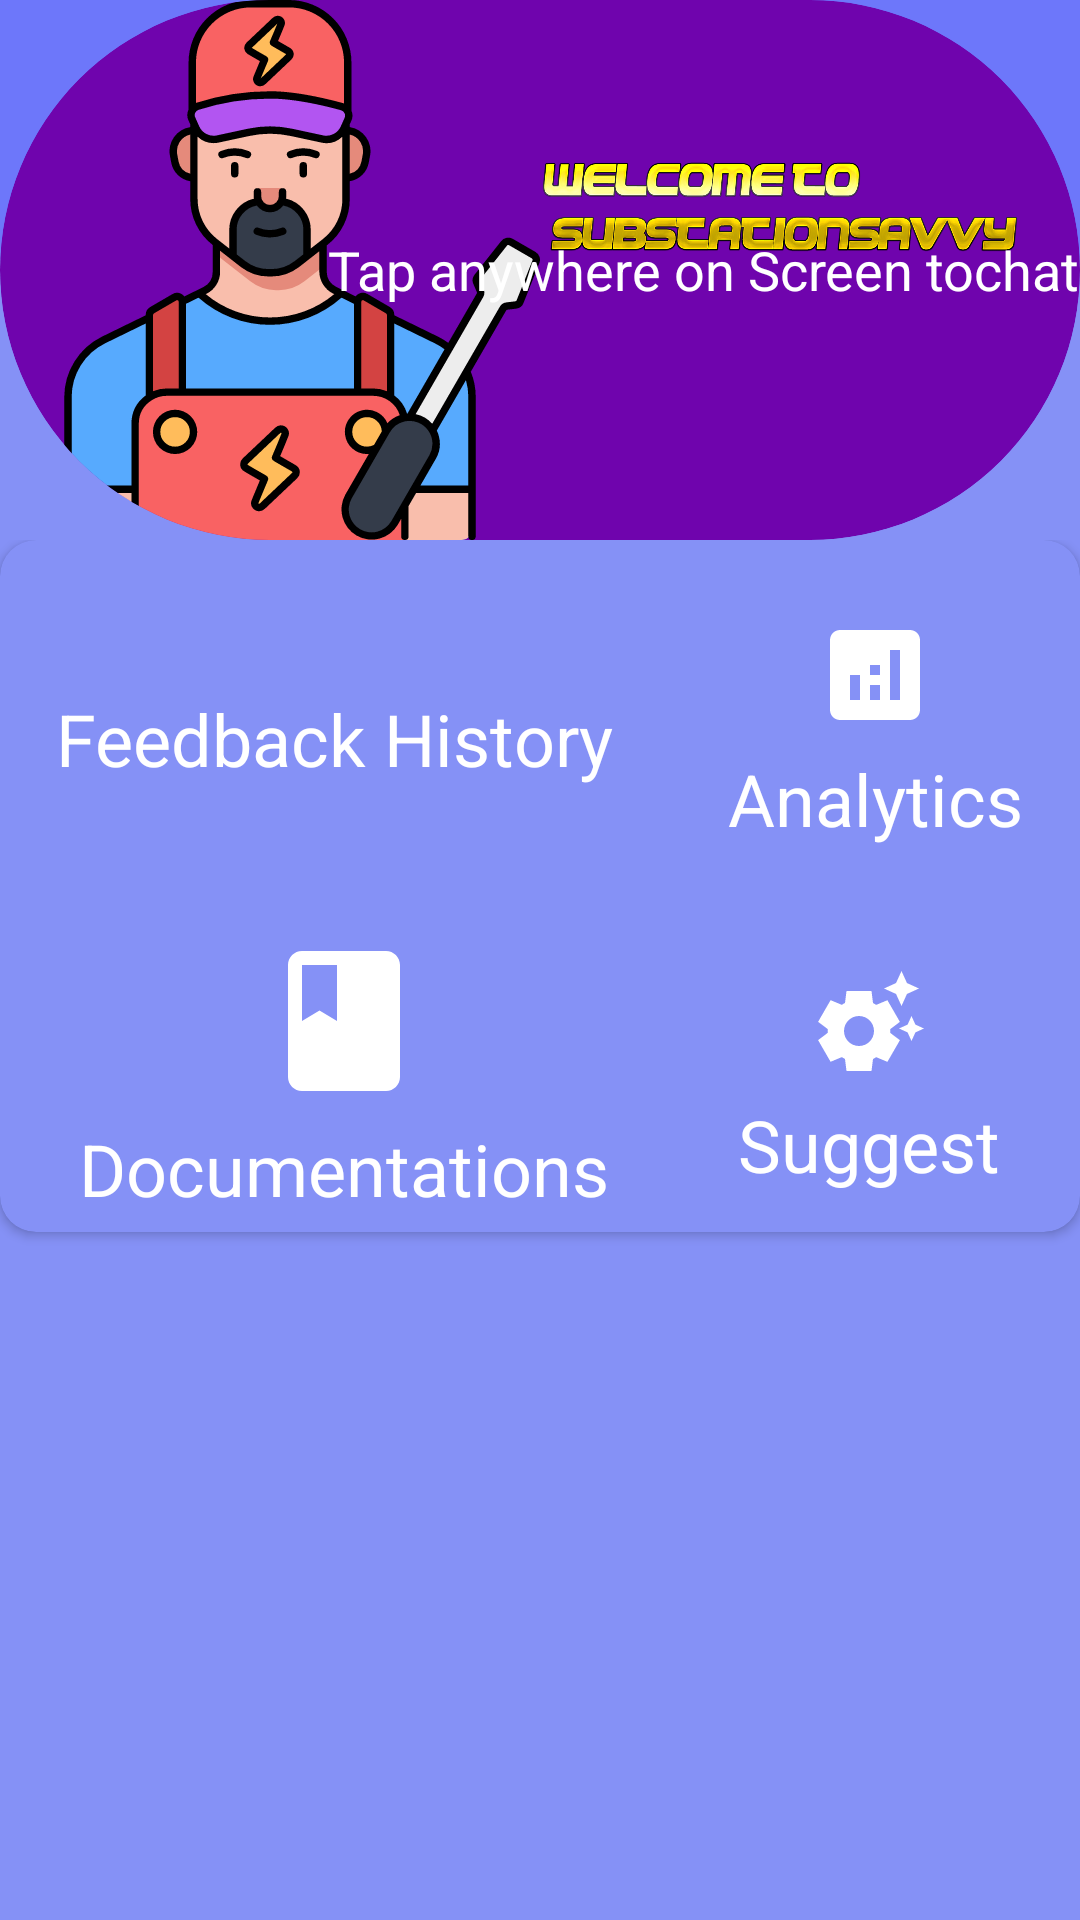

Named icons in this screenshot (1080w x 1920h) and their centers, (x,y):
book: (344,1021)
